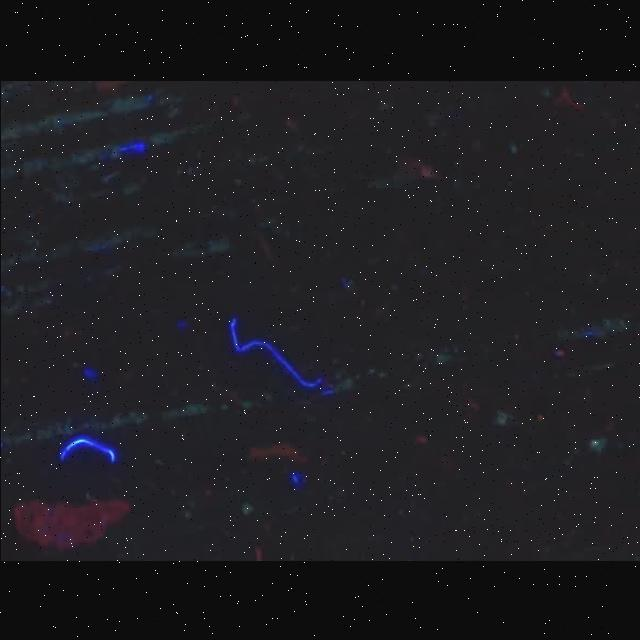Fragment: (13, 498, 128, 548)
